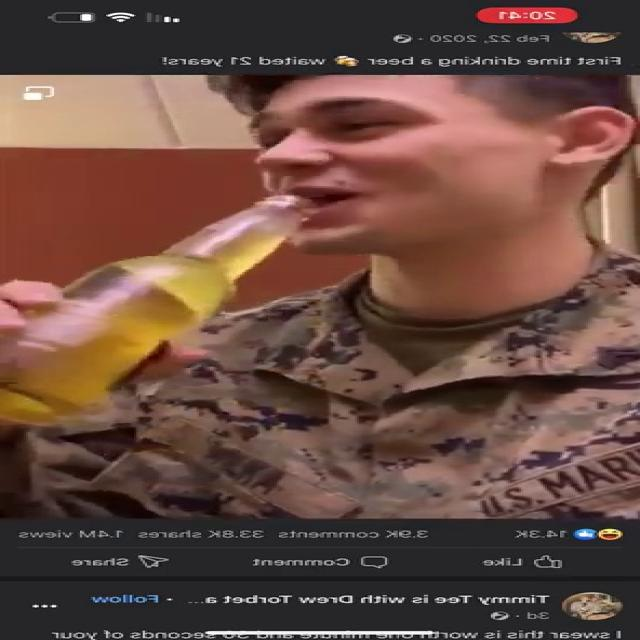Bottle: (2, 197, 316, 422)
Hand: (0, 279, 266, 398)
Mouth: (253, 178, 384, 221)
